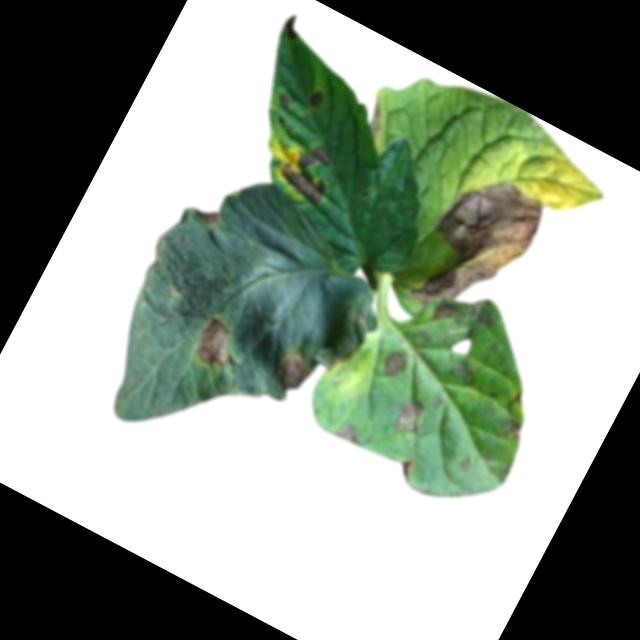Early_blight: (400, 164, 550, 334), (275, 134, 344, 207), (186, 311, 246, 376), (267, 344, 317, 398), (386, 394, 430, 440), (359, 99, 393, 142), (189, 202, 226, 236), (379, 348, 409, 380), (331, 420, 363, 449), (430, 300, 461, 329), (278, 11, 306, 43), (500, 417, 527, 443), (303, 87, 325, 112), (394, 458, 415, 480), (273, 94, 292, 112)
